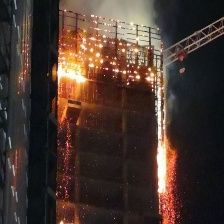fire: (80, 13, 164, 79), (152, 126, 178, 206), (55, 54, 90, 83)
smoke: (94, 1, 175, 49)
